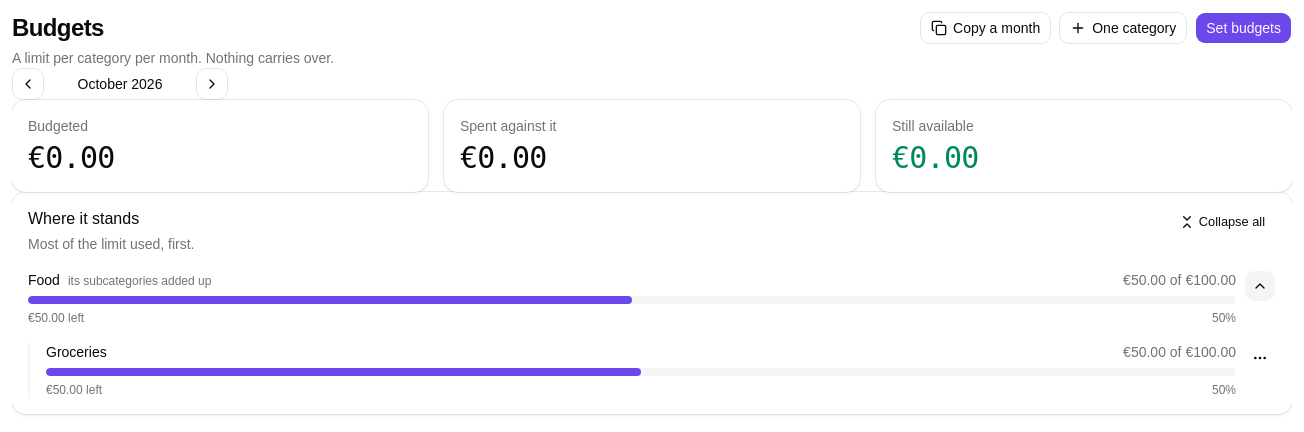
folding a parent over its subcategories › shows the subcategories until the parent is folded shut
This screenshot has width=1304, height=432.
Expected: the text "Groceries" is shown, [46,342,107,362]
Click the button named "Hide the subcategories of Food" at (1260,286), box [1244,270,1276,302]
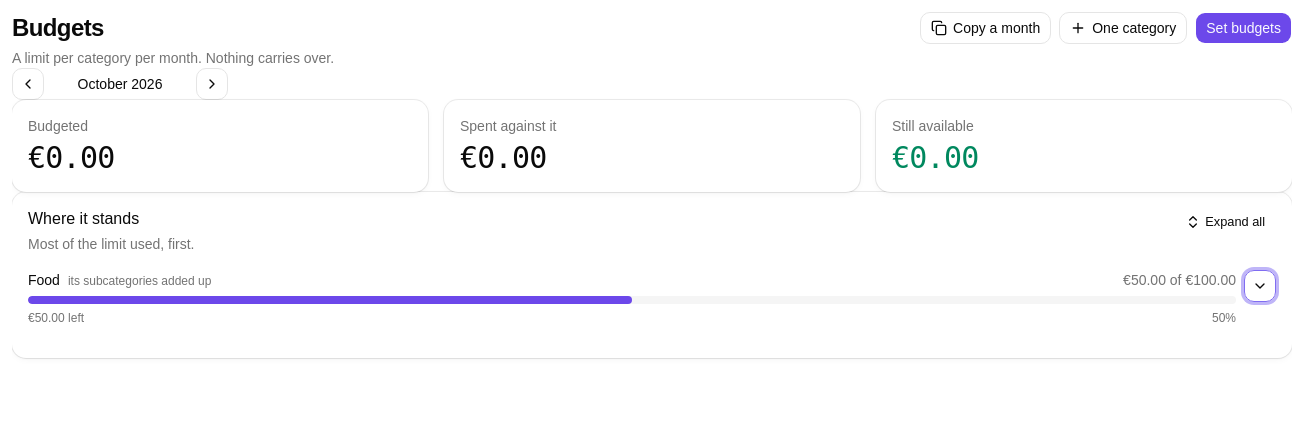
Expected: the text "Food" is shown, [28,272,60,288]
Expected: the text "Groceries" is gone
Click the button named "Show the subcategories of Food" at (1260,286), box [1244,270,1276,302]
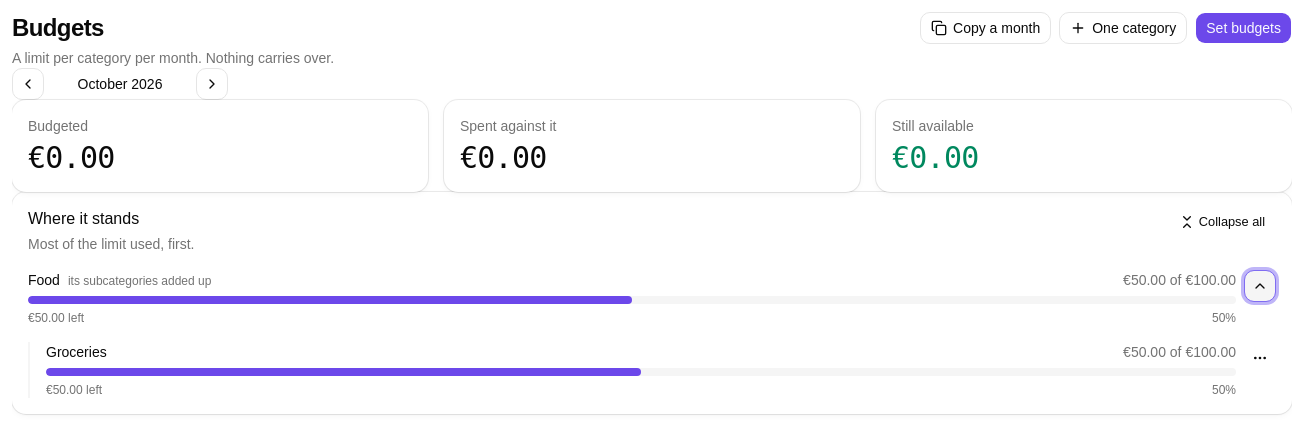
Expected: the text "Groceries" is shown, [46,342,107,362]
